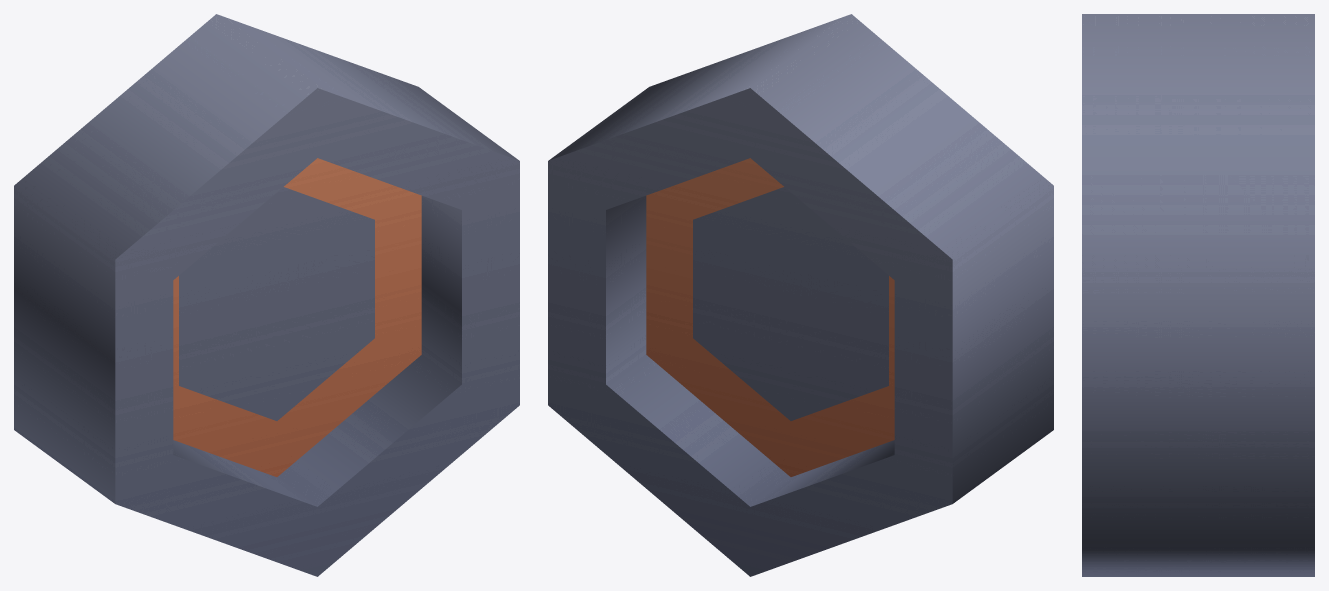
File: coin-silver.glb
The picture shows the model from 3 angles, left to right: view 1: azimuth 30°, elevation 25°; view 2: azimuth 150°, elevation 25°; view 3: azimuth 270°, elevation 25°; orthographic projection. The views are drawn at different scales.
Parts seen in each view (by area): view 1: coin-silver; view 2: coin-silver; view 3: coin-silver.
Part boxes in pixels (x1=…): coin-silver: x1=14, y1=14, x2=519, y2=576; coin-silver: x1=548, y1=14, x2=1053, y2=576; coin-silver: x1=1082, y1=14, x2=1314, y2=576.
Bounding box in the file's own units: 0.3464 × 0.4 × 0.15.
1 material, 1 textured.
